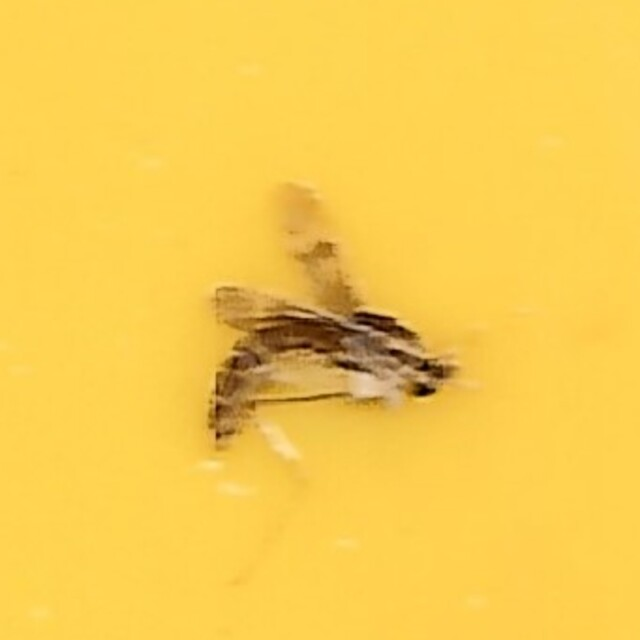Nematocera: (188, 185, 452, 455)
